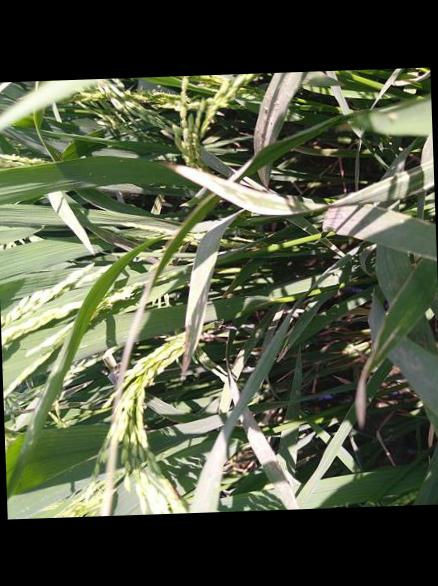Leaf Blight: (167, 162, 329, 214), (182, 268, 214, 374), (86, 223, 138, 251)
